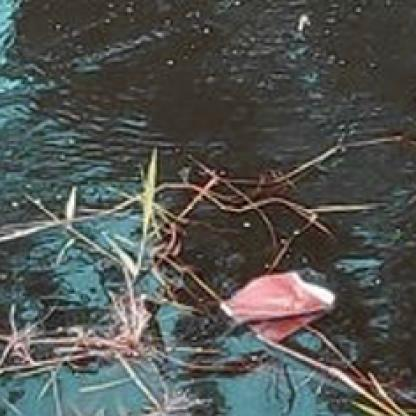Trash: (218, 268, 336, 325)
